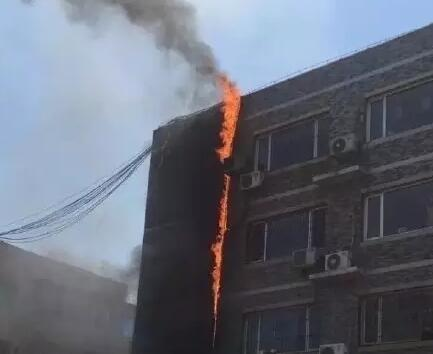fire: (198, 76, 240, 343)
smoke: (63, 1, 222, 72)
